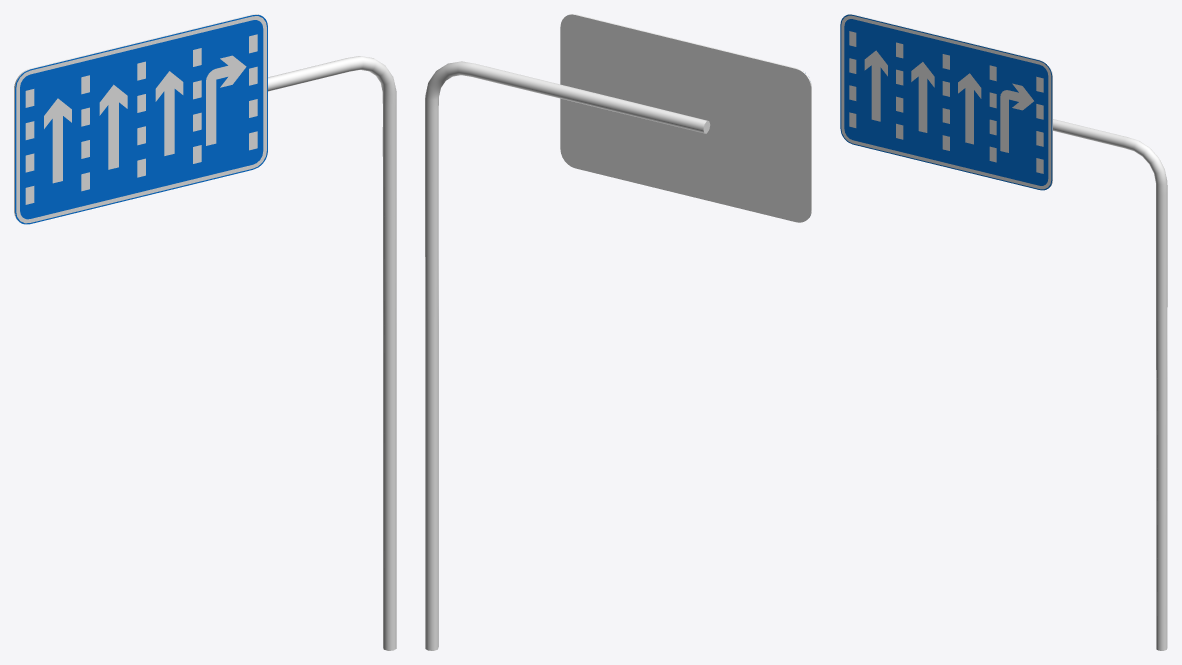
The picture shows the model from 3 angles, left to right: view 1: azimuth 30°, elevation 25°; view 2: azimuth 150°, elevation 25°; view 3: azimuth 330°, elevation 25°; orthographic projection. The views are drawn at different scales.
Visible parts, largest first — view 1: I37-4-3; view 2: I37-4-3; view 3: I37-4-3.
Part boxes in pixels (x1=…): I37-4-3: x1=14, y1=14, x2=396, y2=650; I37-4-3: x1=425, y1=14, x2=811, y2=650; I37-4-3: x1=840, y1=14, x2=1167, y2=650.
Size of the model in its own units: 10.23 by 17.03 by 0.3646.
